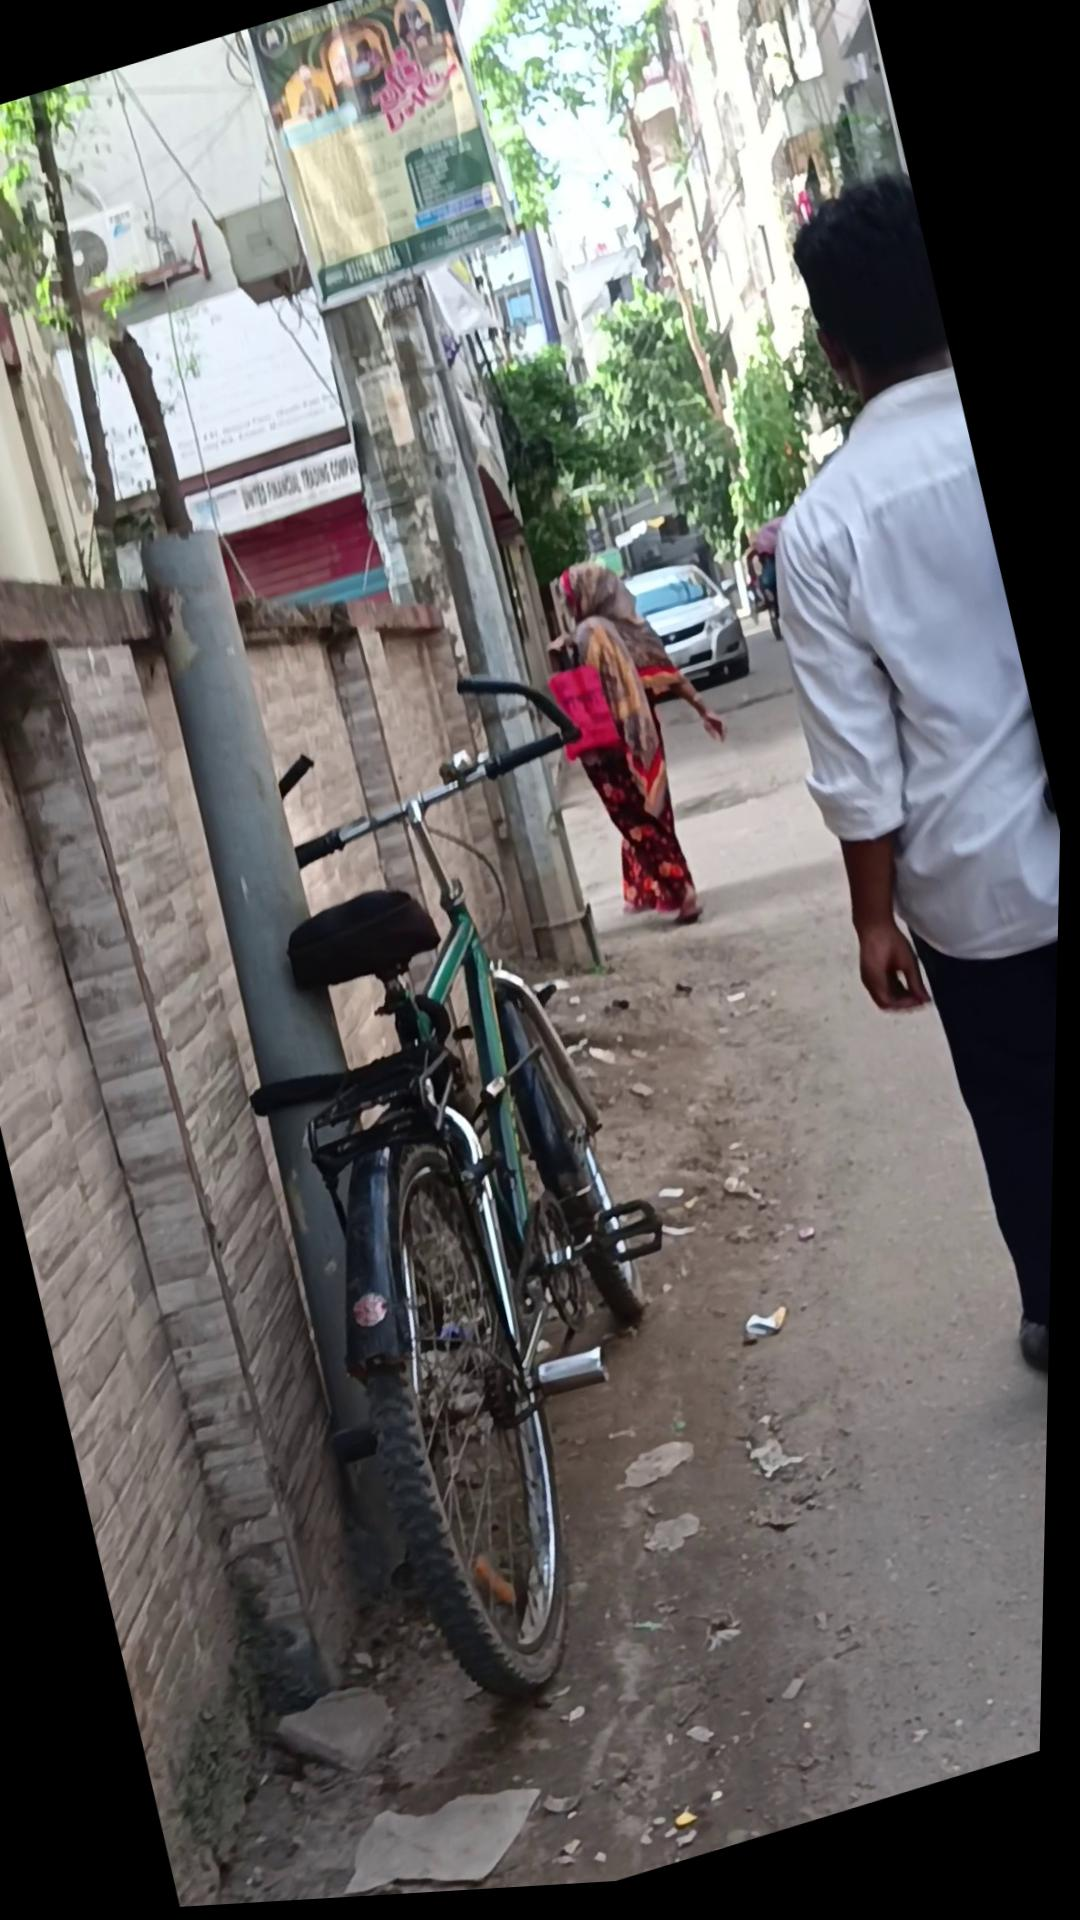Car: (618, 554, 759, 716)
Motorcycle: (158, 640, 812, 1755)
Muddy road: (658, 168, 1076, 1465), (520, 535, 777, 961), (734, 522, 815, 657)
Obstacle: (114, 504, 456, 1475), (360, 264, 616, 999)
